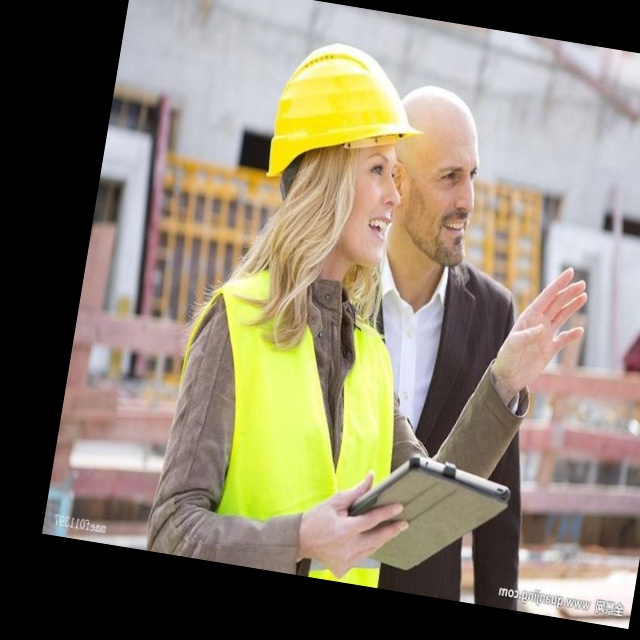Con_Casco: (249, 35, 424, 274)
Con_Chaleco: (163, 271, 419, 580)
